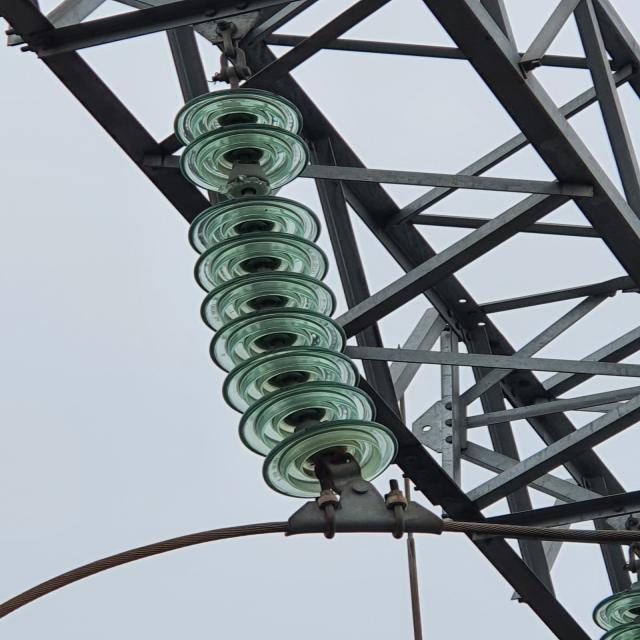正常绝缘子: (161, 70, 394, 508)
绝缘子破损: (218, 169, 272, 195)
